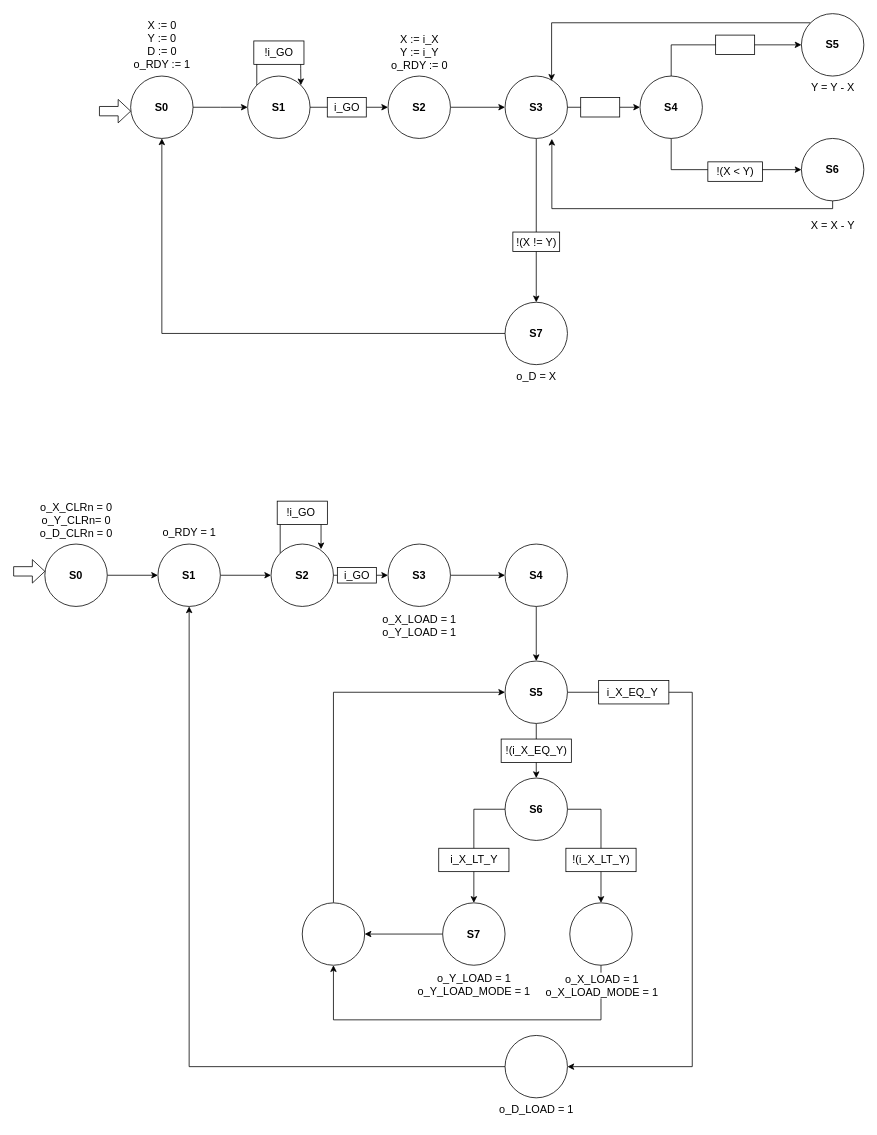
Image size: 877x1135. Some labels were removed from this diagram. Each missing label, with the box of its shape:
S10: (504, 1035, 567, 1098)
S8: (569, 902, 632, 965)
S9: (301, 902, 365, 965)
X != Y: (580, 97, 620, 117)
X < Y: (715, 34, 755, 55)
